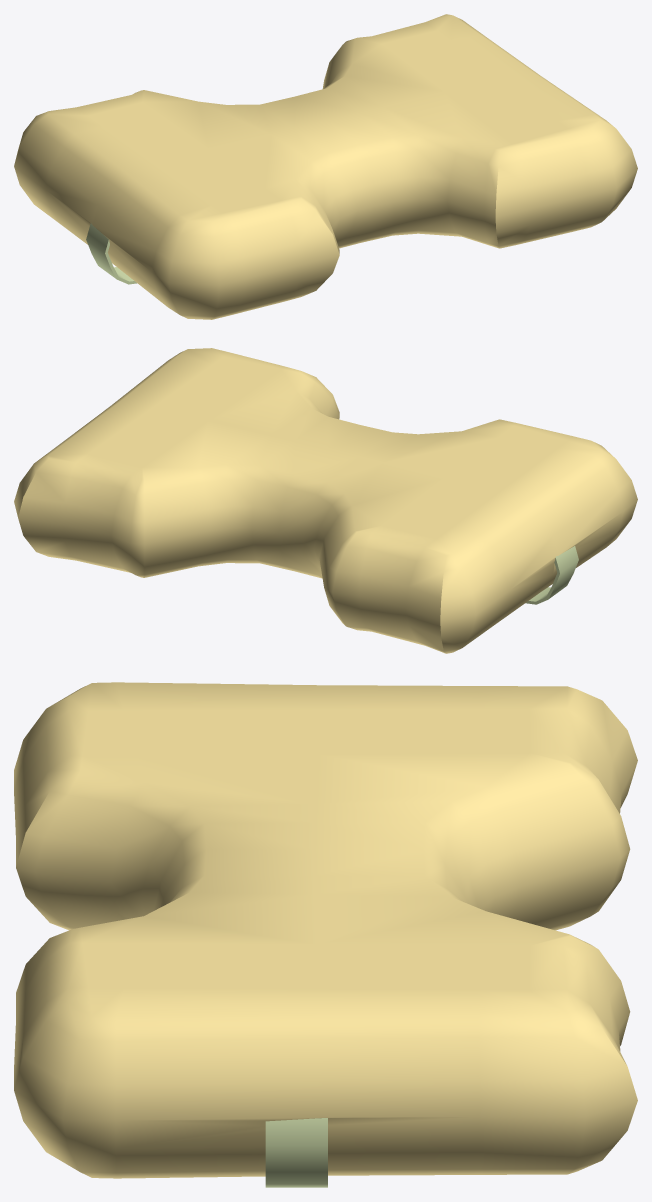
3 renders of one model, top to bottom at view 1: azimuth 30°, elevation 25°; view 2: azimuth 150°, elevation 25°; view 3: azimuth 270°, elevation 25°, orthographic. The views are drawn at different scales.
Parts seen in each view (by area): view 1: 1_Neck Cushion_Material.001_0, split_parent_1; view 2: 1_Neck Cushion_Material.001_0, split_parent_1; view 3: 1_Neck Cushion_Material.001_0, split_parent_1.
Part boxes in pixels (<box>): 1_Neck Cushion_Material.001_0: <box>14,14,637,319</box>; split_parent_1: <box>86,223,136,284</box>; 1_Neck Cushion_Material.001_0: <box>14,348,637,653</box>; split_parent_1: <box>525,546,578,604</box>; 1_Neck Cushion_Material.001_0: <box>14,682,637,1178</box>; split_parent_1: <box>265,1118,327,1187</box>.
Size of the model in its own units: 1 by 0.2093 by 0.6908.
